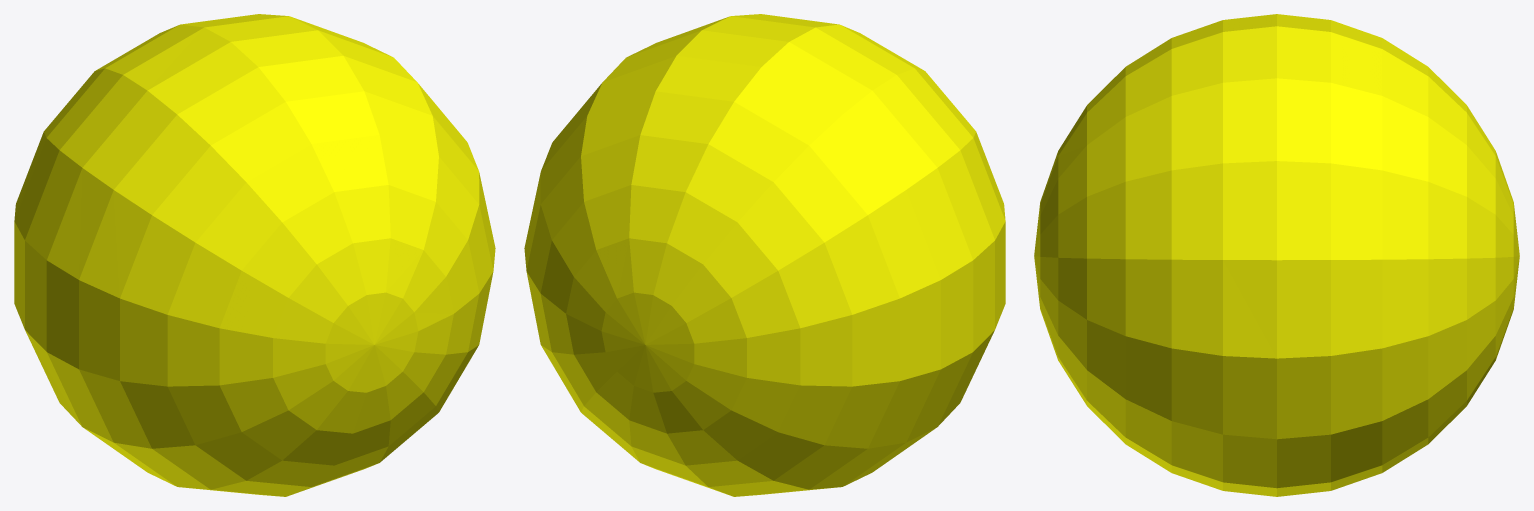
The model's file is fictiveObject.obj.
The picture shows the model from 3 angles, left to right: view 1: azimuth 30°, elevation 25°; view 2: azimuth 150°, elevation 25°; view 3: azimuth 270°, elevation 25°; orthographic projection.
Parts seen in each view (by area): view 1: unnamed_object1; view 2: unnamed_object1; view 3: unnamed_object1.
Boxes of the visible parts, x1=… form: unnamed_object1: x1=14, y1=14, x2=495, y2=496; unnamed_object1: x1=524, y1=14, x2=1005, y2=496; unnamed_object1: x1=1034, y1=14, x2=1519, y2=496.
Bounding box in the file's own units: 0.00989 × 0.00995 × 0.01.
